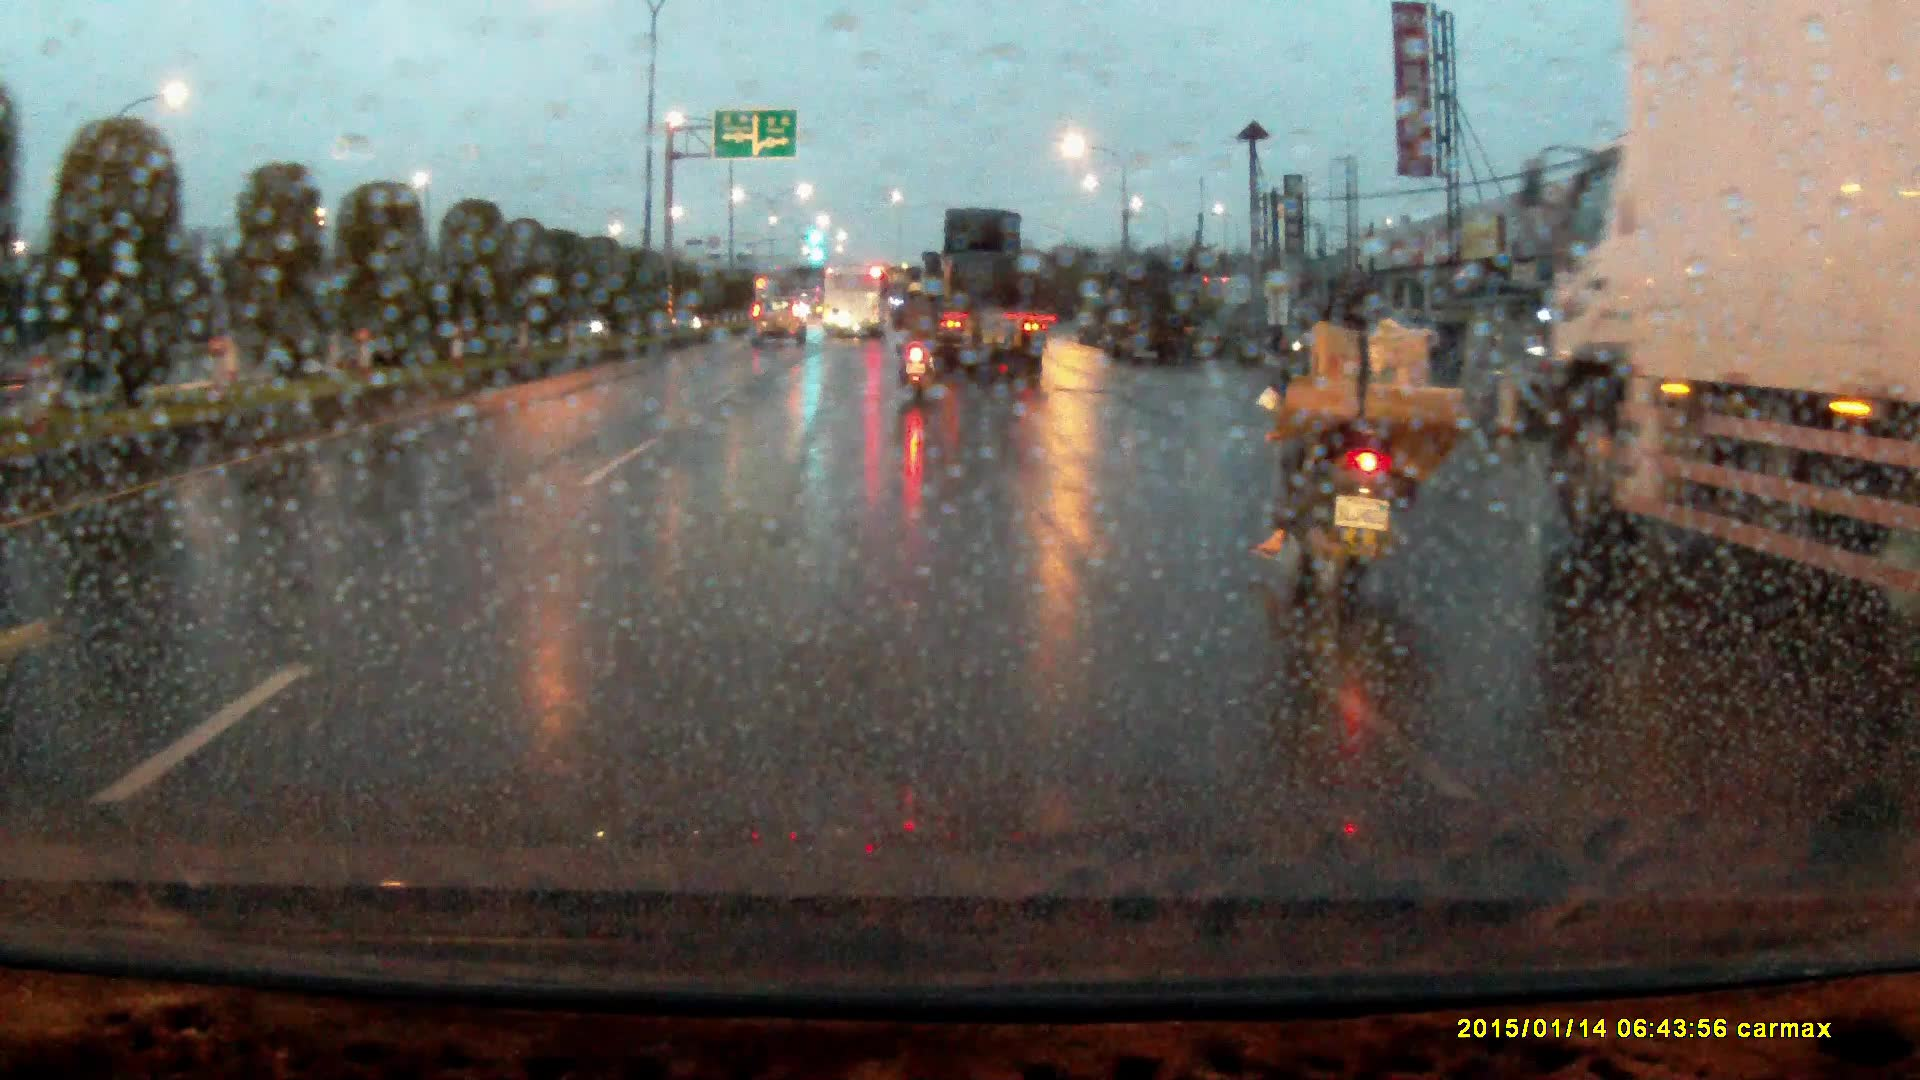rider: (1255, 252, 1472, 620), (898, 273, 946, 389)
vehicle: (1525, 1, 1920, 607), (905, 205, 1049, 383), (1112, 257, 1203, 362), (824, 264, 891, 343), (752, 292, 808, 340), (1075, 290, 1121, 346)
